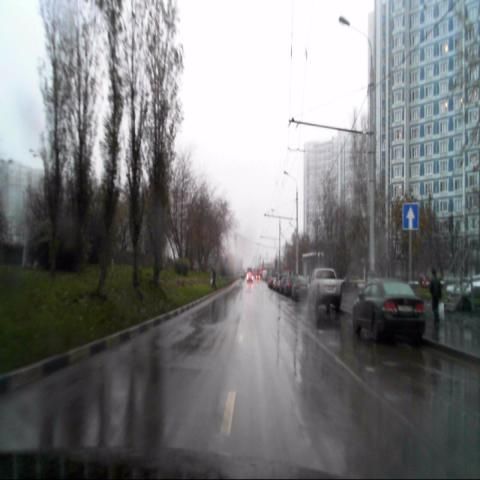5_5: (402, 202, 418, 228)
